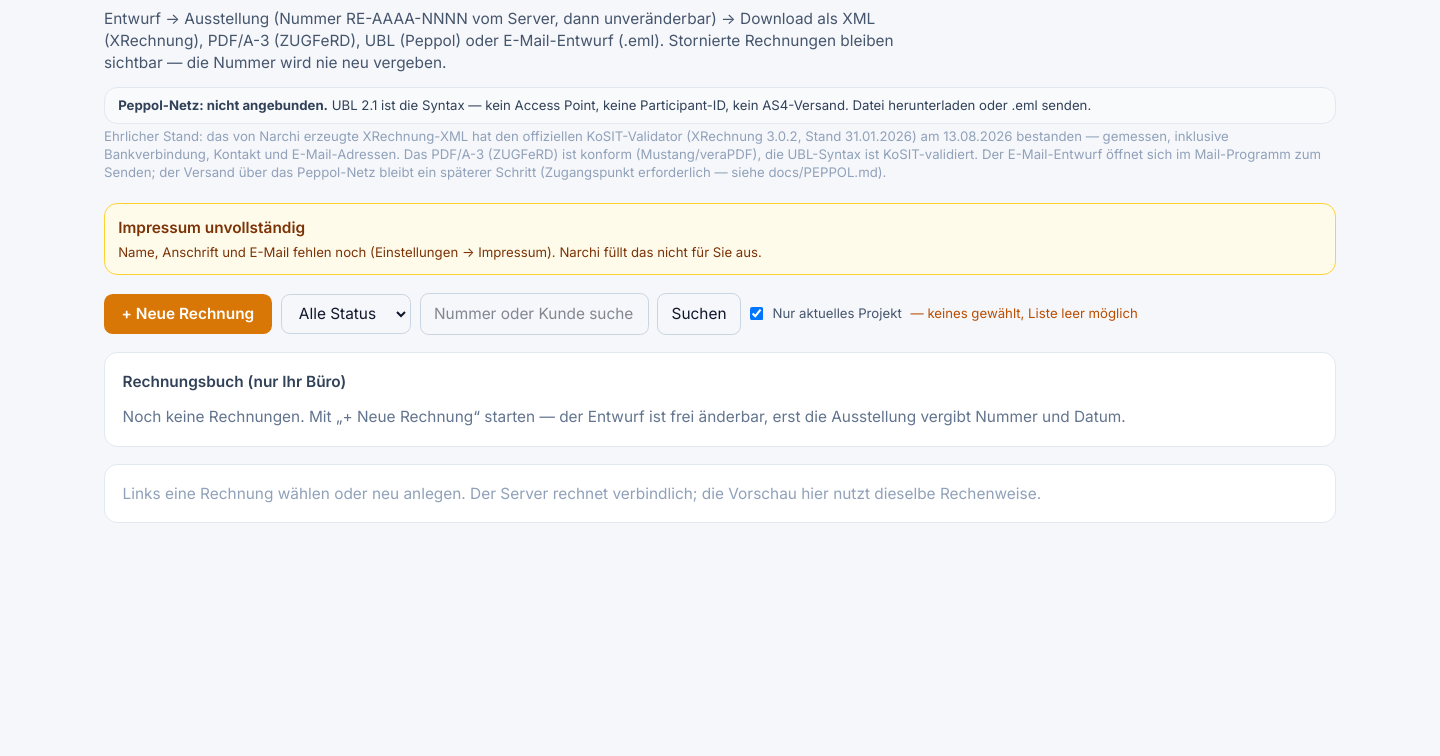
Test: Page Rechnungen §116 › bouton « Beispiel ausfüllen » remplit un IBAN valide (test du flux complet)
Click the button "+ Neue Rechnung" at (188, 314), box left=104, top=294, right=272, bottom=334
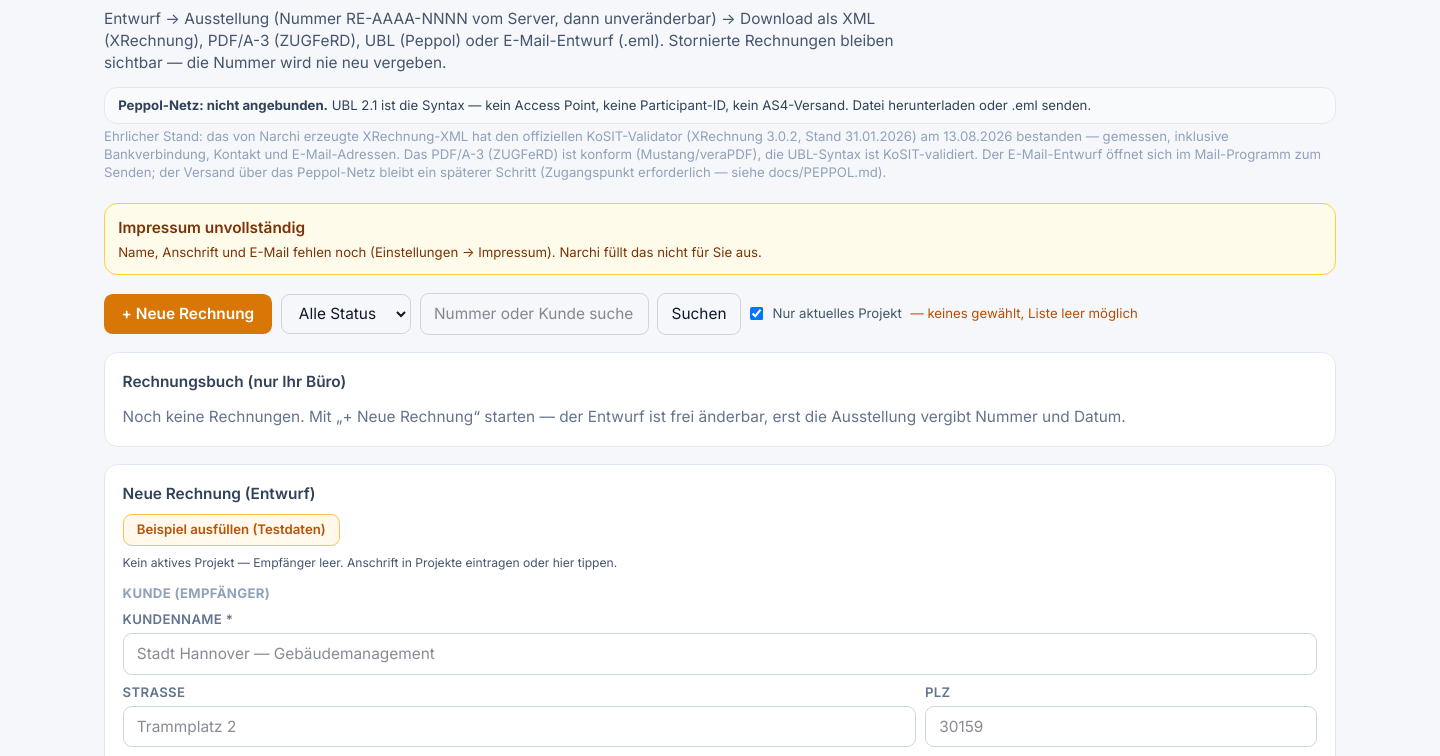
Check: the button "Beispiel ausfüllen (Testdaten)" is shown
Click the button "Beispiel ausfüllen (Testdaten)" at (231, 530), box left=123, top=514, right=340, bottom=546
(page scrolled)
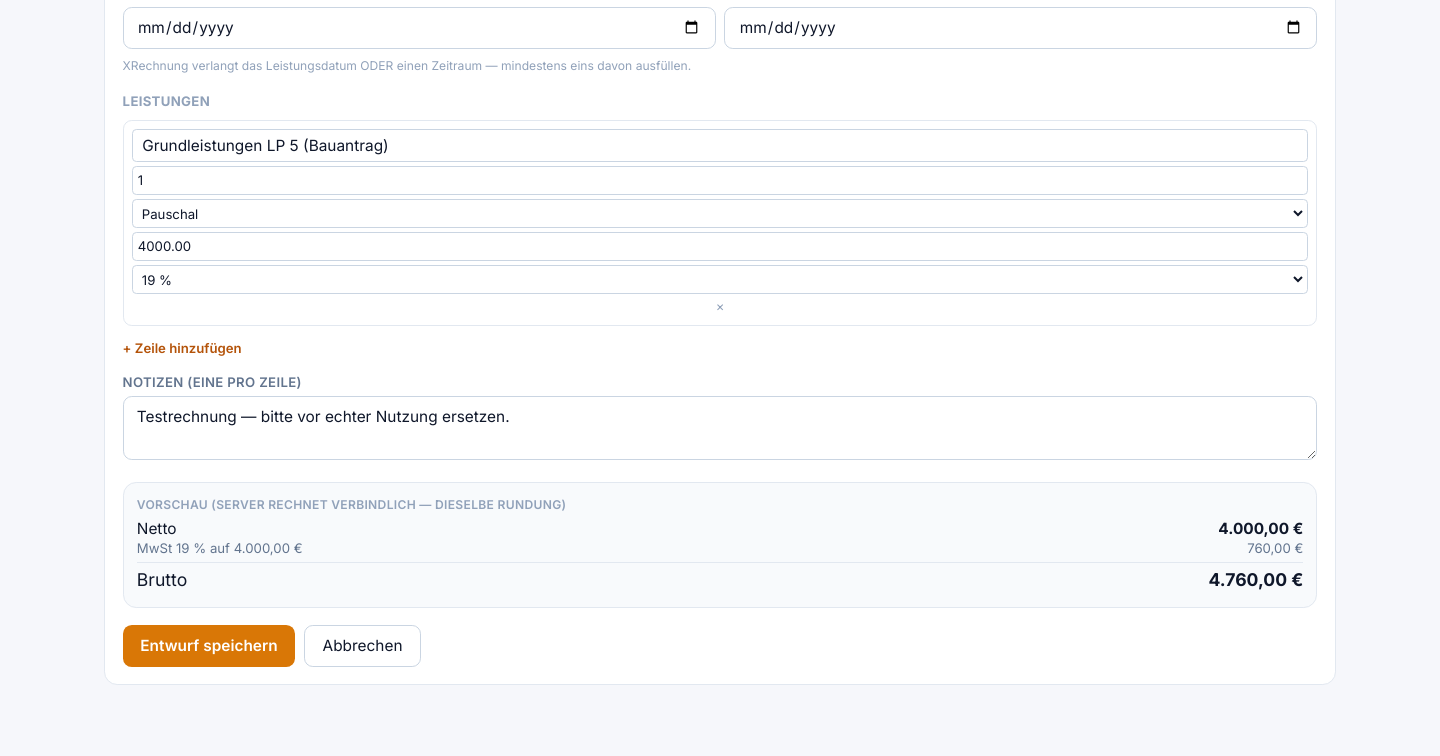
Check: the button "Entwurf speichern" is enabled, box left=123, top=625, right=295, bottom=667
